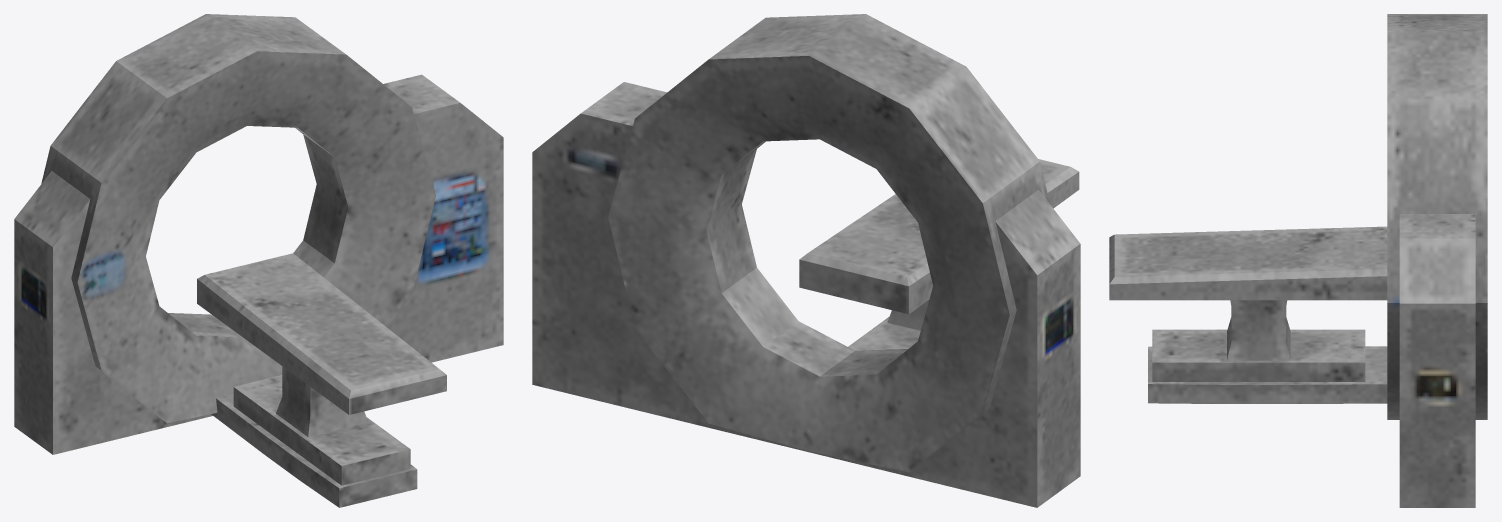
The model's file is mri_machine.glb.
3 renders of one model, left to right at view 1: azimuth 30°, elevation 25°; view 2: azimuth 150°, elevation 25°; view 3: azimuth 270°, elevation 25°, orthographic. The views are drawn at different scales.
Parts seen in each view (by area): view 1: Scanner.001; view 2: Scanner.001; view 3: Scanner.001.
Part boxes in pixels (x1,y1,x2,y2): Scanner.001: (14, 14, 503, 507); Scanner.001: (532, 14, 1080, 507); Scanner.001: (1109, 14, 1487, 507).
Size of the model in its own units: 4.63 by 3.53 by 3.42.
1 material, 1 textured.
